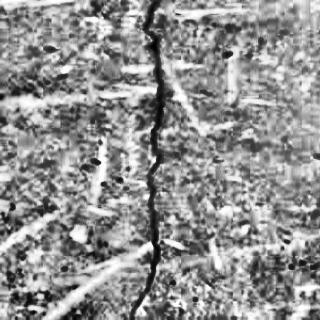crack: (128, 1, 180, 320)
